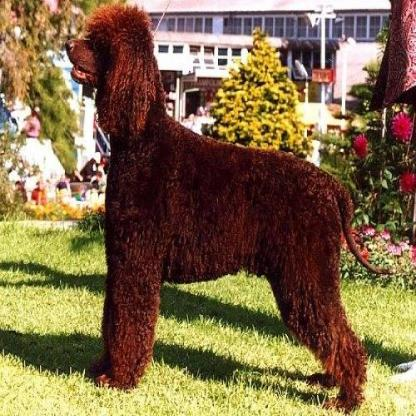Irish_water_spaniel: (63, 11, 397, 412)
